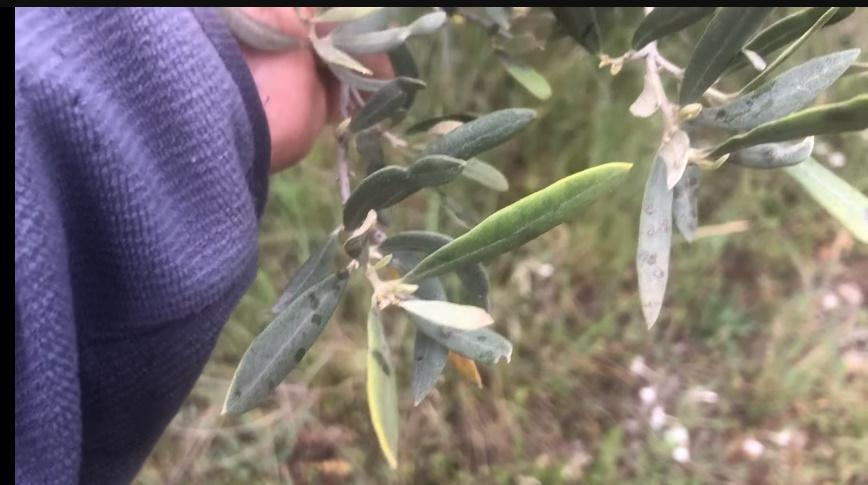OlivePeacockSpot: (220, 264, 352, 414), (633, 147, 674, 330), (406, 310, 513, 370), (364, 304, 402, 466), (717, 138, 814, 170), (674, 163, 701, 244)
